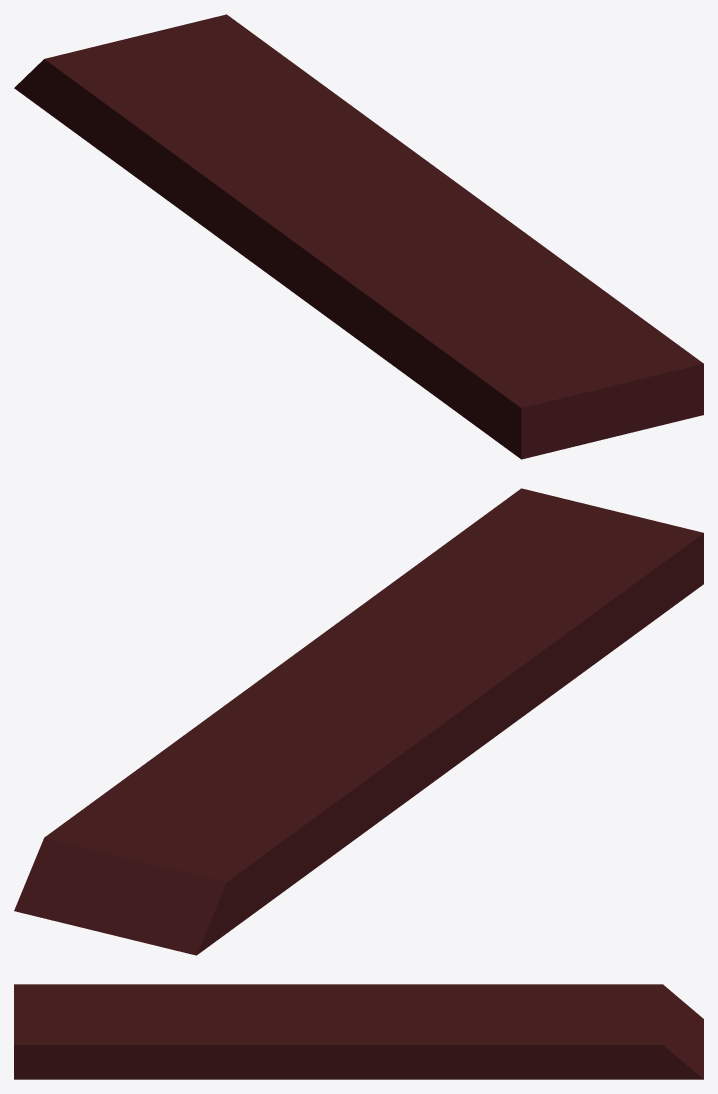
Rendered from Estante3.fbx.
3 views of the same model, one above another, from view 1: azimuth 30°, elevation 25°; view 2: azimuth 150°, elevation 25°; view 3: azimuth 270°, elevation 25° (orthographic). The views are drawn at different scales.
Visible parts, largest first — view 1: Cube.011; view 2: Cube.011; view 3: Cube.011.
Boxes of the visible parts, x1,y1,x2,y2 form: Cube.011: (14, 14, 703, 459); Cube.011: (14, 488, 703, 955); Cube.011: (14, 984, 703, 1079).
Bounding box in the file's own units: 511 × 137 × 2462.
